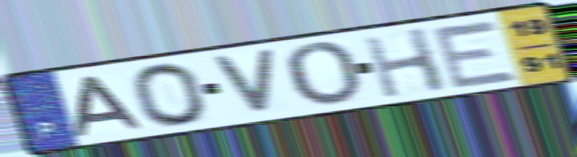A: (71, 74, 148, 138)
E: (427, 18, 523, 91)
H: (359, 25, 452, 100)
O: (281, 40, 366, 109), (127, 61, 213, 129)
V: (207, 48, 279, 115)
